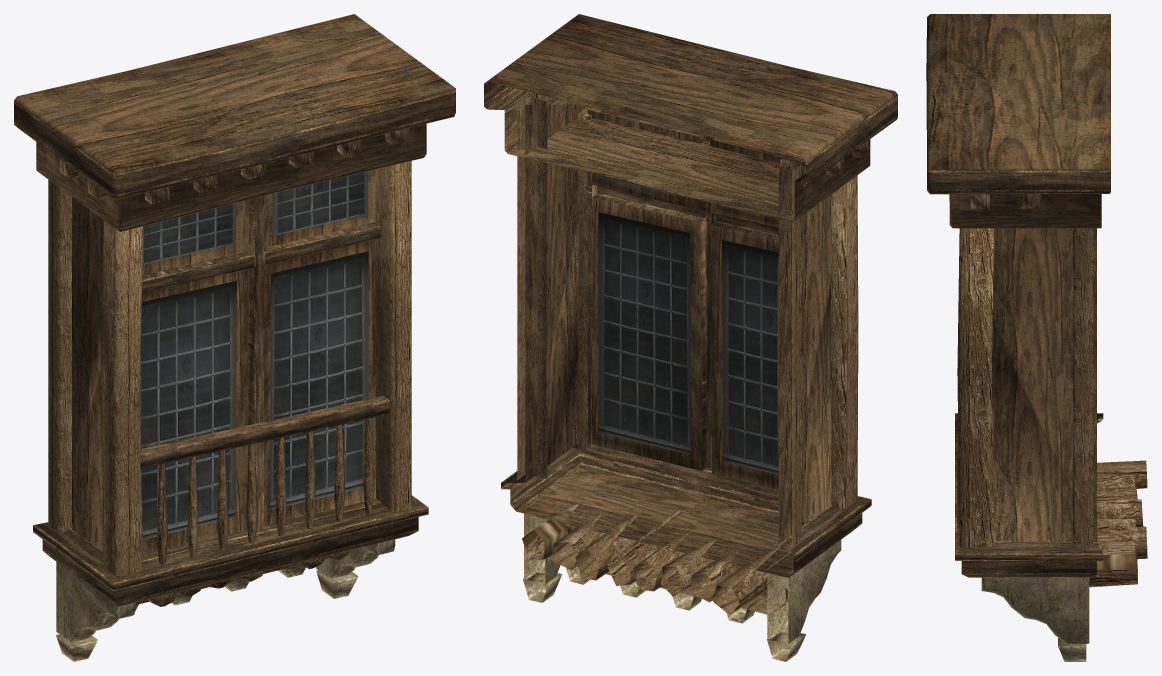
The model's file is window2.obj.
3 renders of one model, left to right at view 1: azimuth 30°, elevation 25°; view 2: azimuth 150°, elevation 25°; view 3: azimuth 270°, elevation 25°, orthographic. The views are drawn at different scales.
Visible parts, largest first — view 1: window2.obj; view 2: window2.obj; view 3: window2.obj.
Part boxes in pixels (bbox=[...]): window2.obj: bbox=[14, 14, 455, 661]; window2.obj: bbox=[484, 14, 897, 661]; window2.obj: bbox=[926, 14, 1147, 661].
Size of the model in its own units: 73.28 by 113 by 44.44.
Materials: 4 (4 with a texture image).
